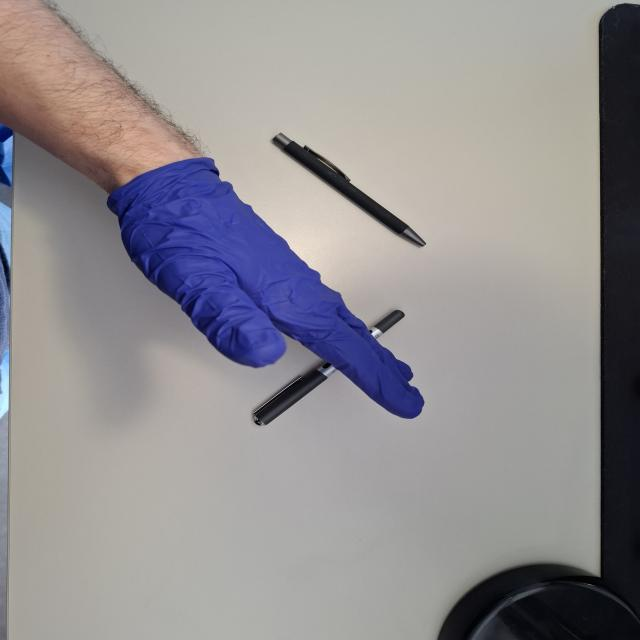glove_on: (102, 153, 429, 424)
